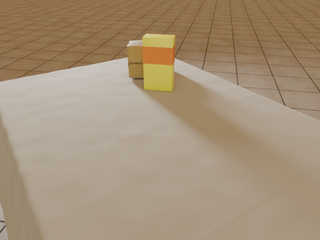box: (142, 34, 175, 91), (127, 40, 143, 78)
